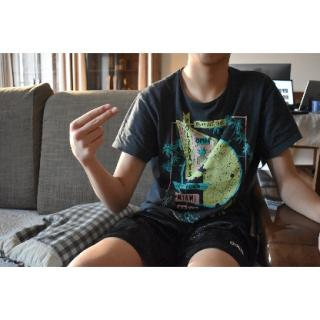AYN: (67, 102, 121, 172)
